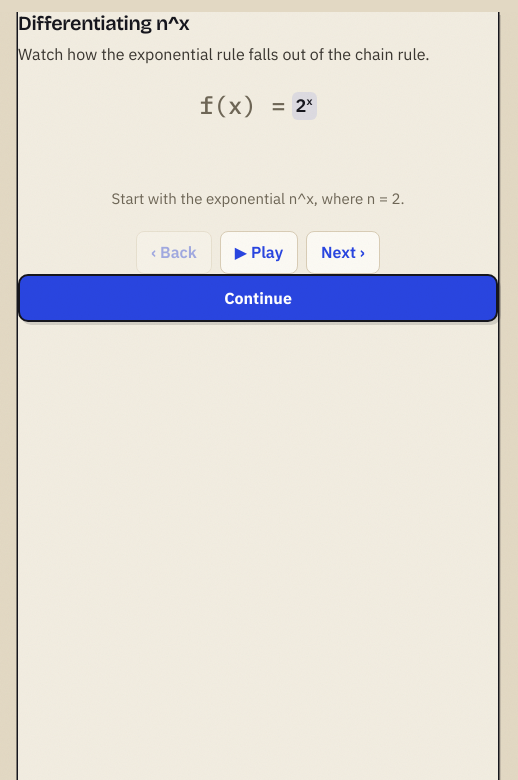
NPowerXAnimationSlide (L4) › Next steps forward one stage at a time and reaches the punchline
Click the button "Next ›" at (343,253), box [306, 231, 380, 274]
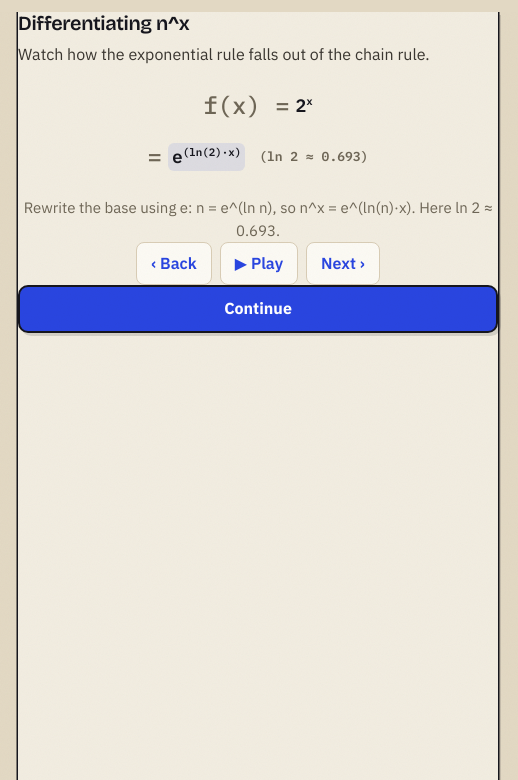
Click the button "Next ›" at (343,264), box [306, 242, 380, 285]
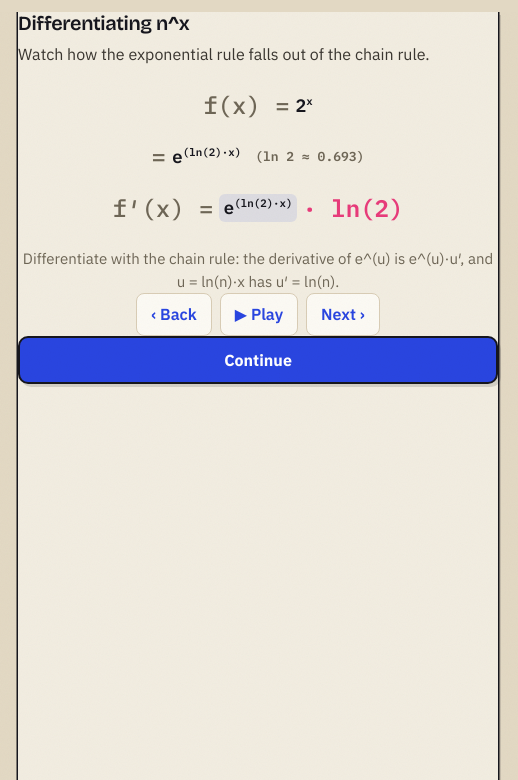
Click the button "Next ›" at (343,315), box [306, 293, 380, 336]
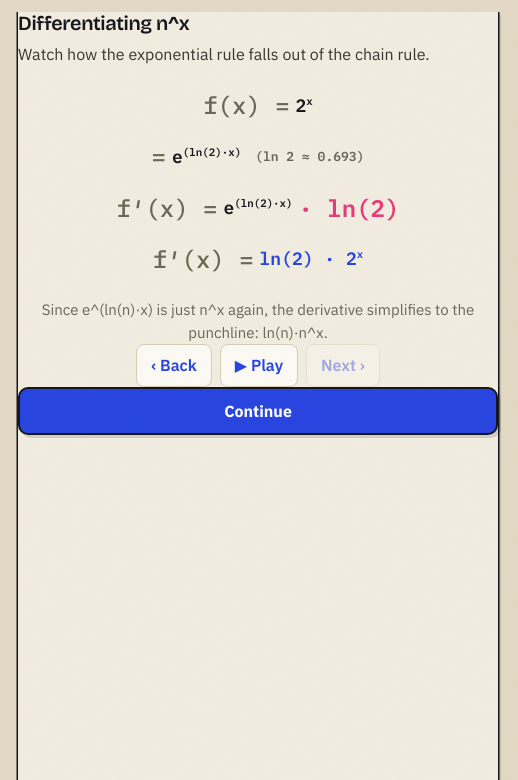
Expected: the element with class "npx-result" shows "ln(2)", [260, 245, 363, 273]
Expected: the button "Next ›" is disabled, [306, 344, 380, 387]
